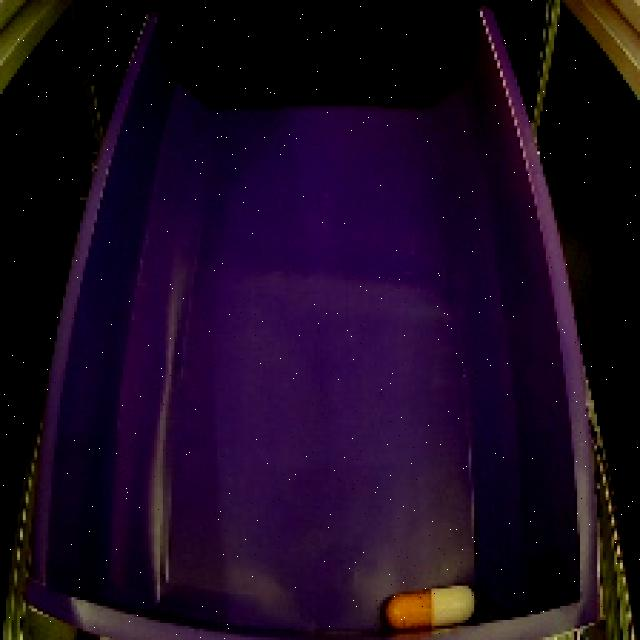small: (374, 577, 482, 638)
